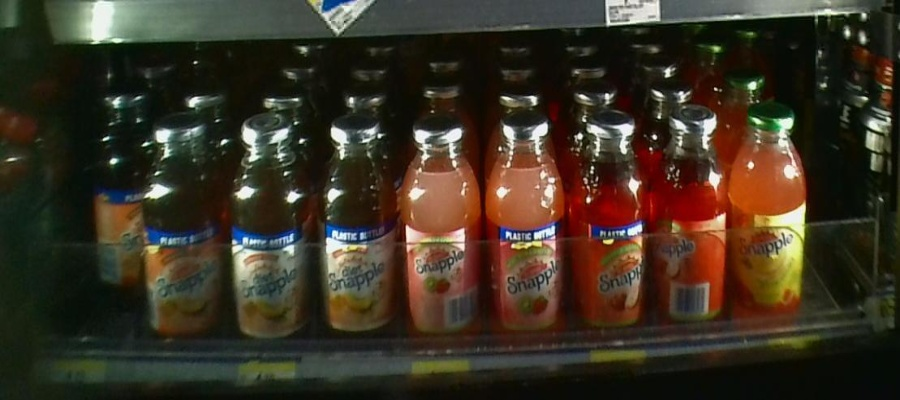bottle: (484, 102, 566, 354), (312, 117, 398, 345), (400, 106, 480, 351), (570, 98, 648, 344), (230, 108, 311, 343), (149, 107, 228, 345), (732, 97, 807, 341), (653, 102, 728, 337), (85, 83, 146, 297)
